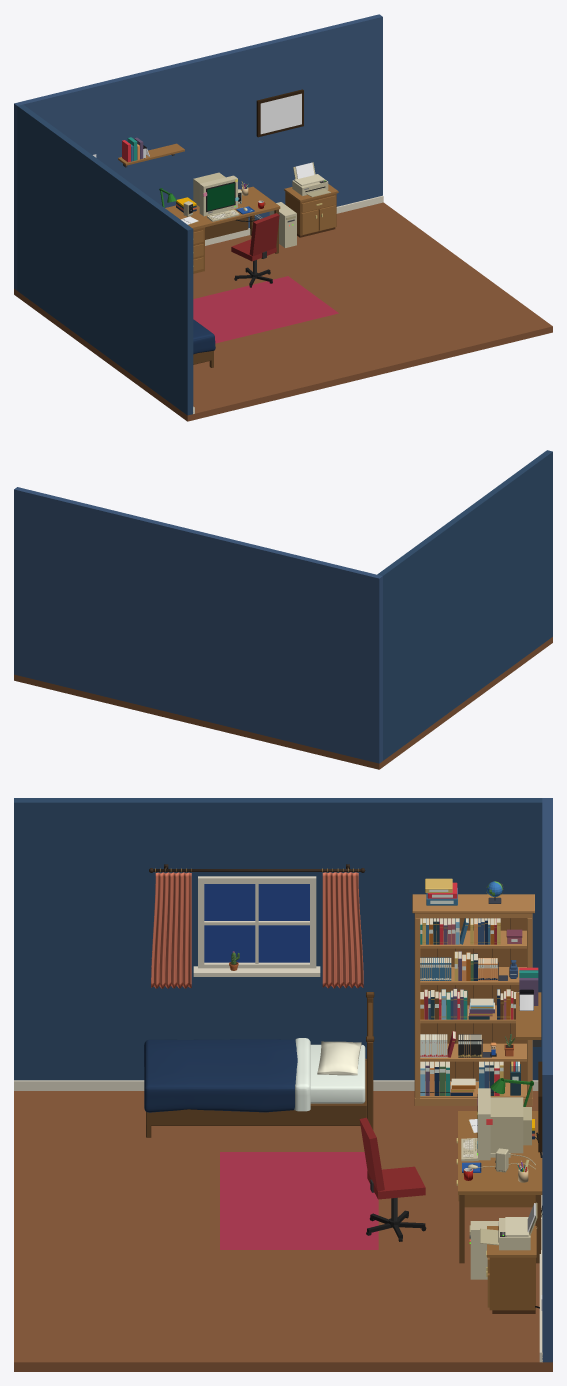
The model's file is room.glb.
3 views of the same model, one above another, from view 1: azimuth 30°, elevation 25°; view 2: azimuth 150°, elevation 25°; view 3: azimuth 270°, elevation 25° (orthographic). The views are drawn at different scales.
Parts seen in each view (by area): view 1: WallBack, Floor, WallLeft, Rug, Chair, Diploma, DeskTop, Tower, BaseboardBack, MonitorBezel, Screen, Blanket (+3 smaller); view 2: WallBack, WallLeft, Floor; view 3: Floor, WallLeft, Rug, Blanket, BookcaseFrame, WindowGlass, WallBack, BookcaseBack, CurtainR, CurtainL, BedFrame, DeskTop (+22 smaller).
Boxes of the visible parts, x1=… form: WallBack: x1=14, y1=14, x2=382, y2=290; Floor: x1=14, y1=202, x2=552, y2=421; WallLeft: x1=17, y1=104, x2=193, y2=415; Rug: x1=193, y1=276, x2=338, y2=343; Chair: x1=231, y1=213, x2=279, y2=287; Diploma: x1=260, y1=93, x2=301, y2=134; DeskTop: x1=165, y1=186, x2=280, y2=229; Tower: x1=269, y1=202, x2=296, y2=247; BaseboardBack: x1=205, y1=195, x2=383, y2=245; MonitorBezel: x1=199, y1=175, x2=237, y2=216; Screen: x1=207, y1=183, x2=234, y2=210; Blanket: x1=193, y1=319, x2=215, y2=354; WallBack: x1=14, y1=487, x2=382, y2=763; WallLeft: x1=377, y1=450, x2=552, y2=760; Floor: x1=14, y1=637, x2=552, y2=769; Floor: x1=14, y1=1091, x2=552, y2=1371; WallLeft: x1=14, y1=798, x2=542, y2=1080; Rug: x1=220, y1=1152, x2=378, y2=1249; Blanket: x1=144, y1=1039, x2=297, y2=1112; BookcaseFrame: x1=412, y1=894, x2=534, y2=1105; WindowGlass: x1=204, y1=884, x2=309, y2=962; WallBack: x1=542, y1=798, x2=552, y2=1362; BookcaseBack: x1=420, y1=918, x2=526, y2=1081; CurtainR: x1=322, y1=868, x2=363, y2=988; CurtainL: x1=151, y1=868, x2=191, y2=988; BedFrame: x1=146, y1=1058, x2=366, y2=1137; DeskTop: x1=458, y1=1111, x2=542, y2=1194.
Bounding box in the file's own units: 6.2 × 3.1 × 5.1.
